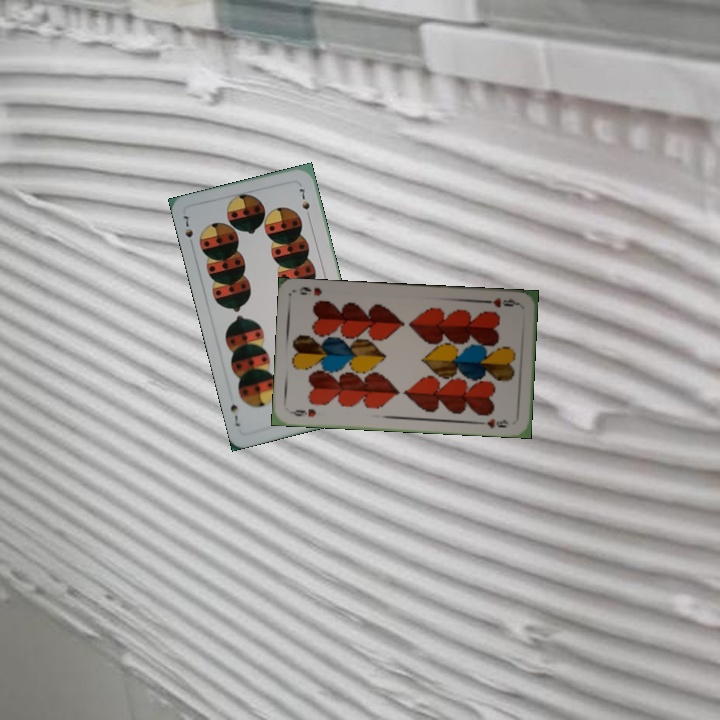H9: (481, 293, 521, 310), (287, 405, 319, 419)
S7: (180, 212, 196, 250)
